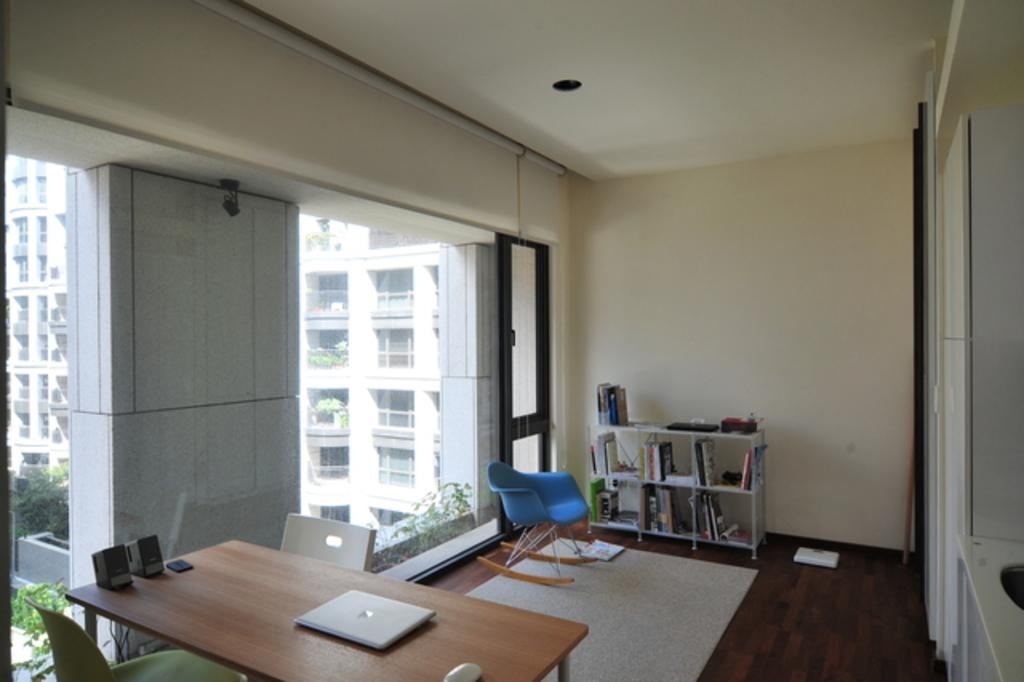Chair: (24, 595, 248, 681), (279, 512, 377, 572)
Laptop: (292, 589, 436, 651)
